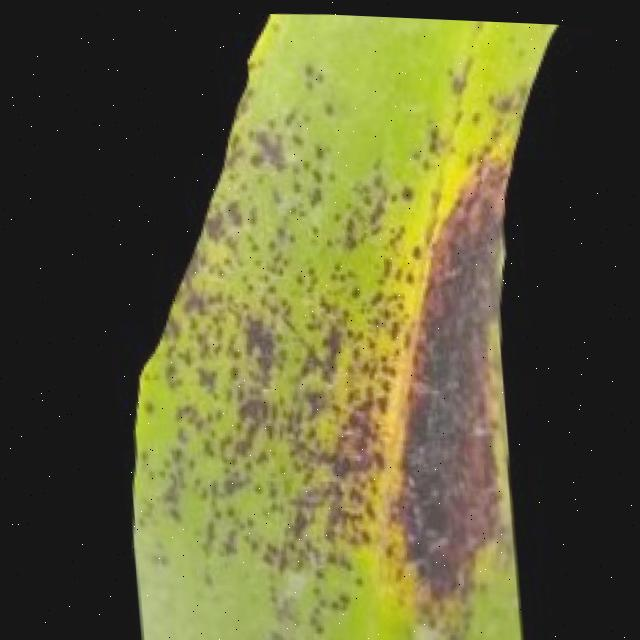mite: (469, 16, 640, 640), (238, 308, 282, 381), (246, 121, 291, 168), (399, 176, 416, 197)
